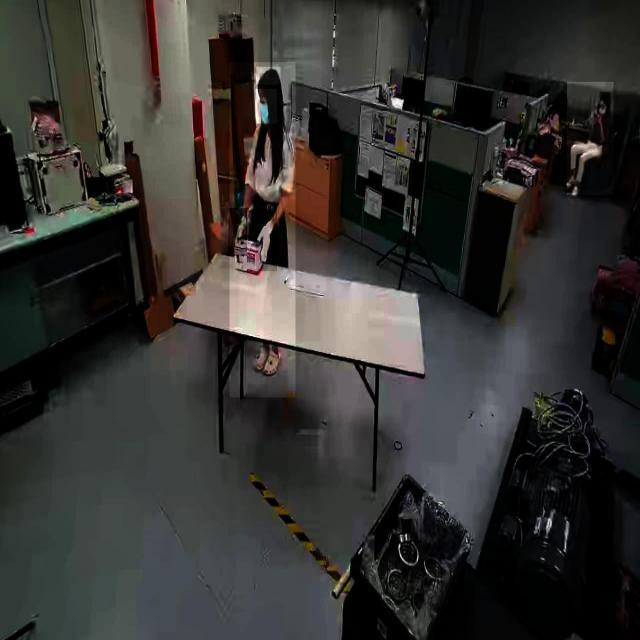gloves: (256, 209, 278, 272), (228, 208, 248, 257)
